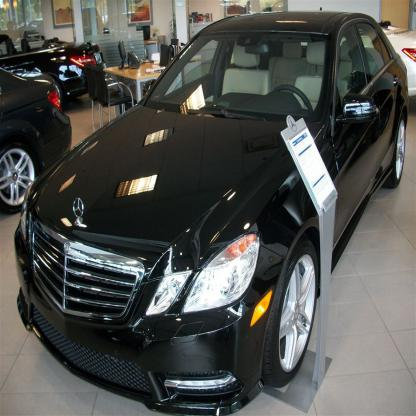Vehicle: (15, 10, 410, 415)
